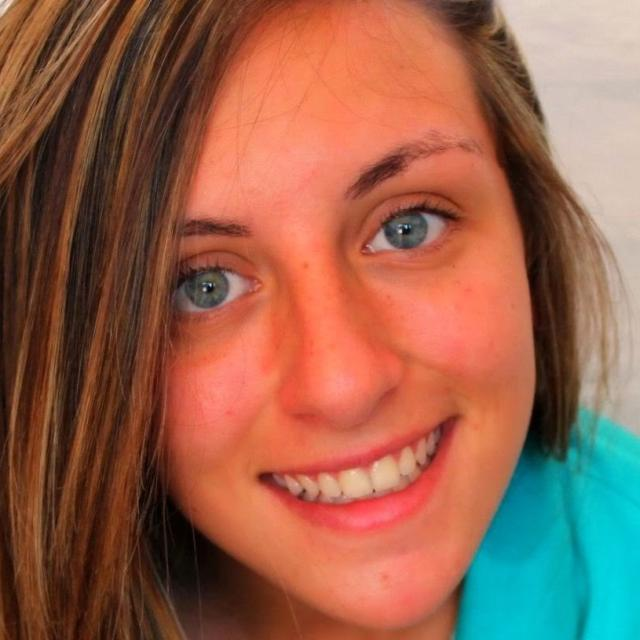Normal: (151, 2, 540, 631)
